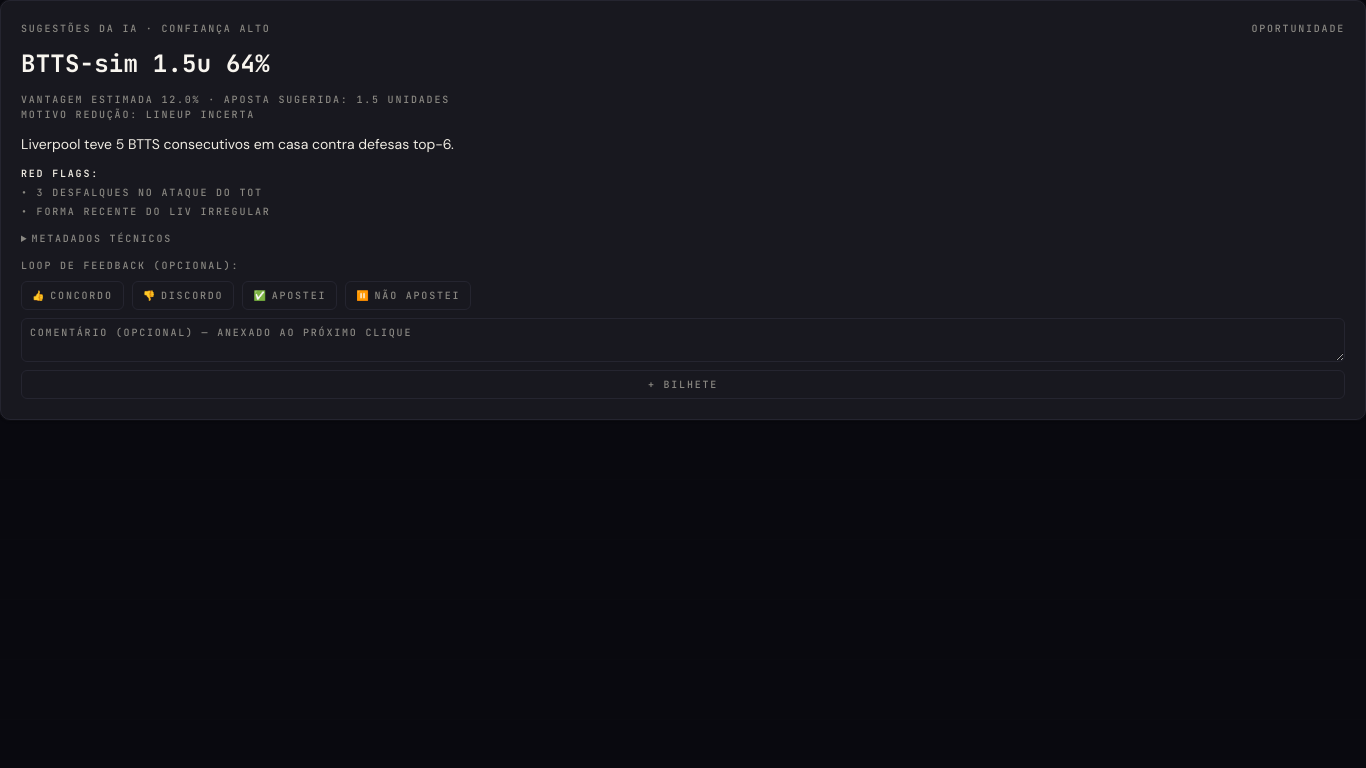
Test: <AiRecoPanel> "Apostei" modal flow (A2) › modal tem dropdown de casas + campos editáveis de odd e stake
Click the button "✅ Apostei" at (290,296), box left=242, top=281, right=337, bottom=310
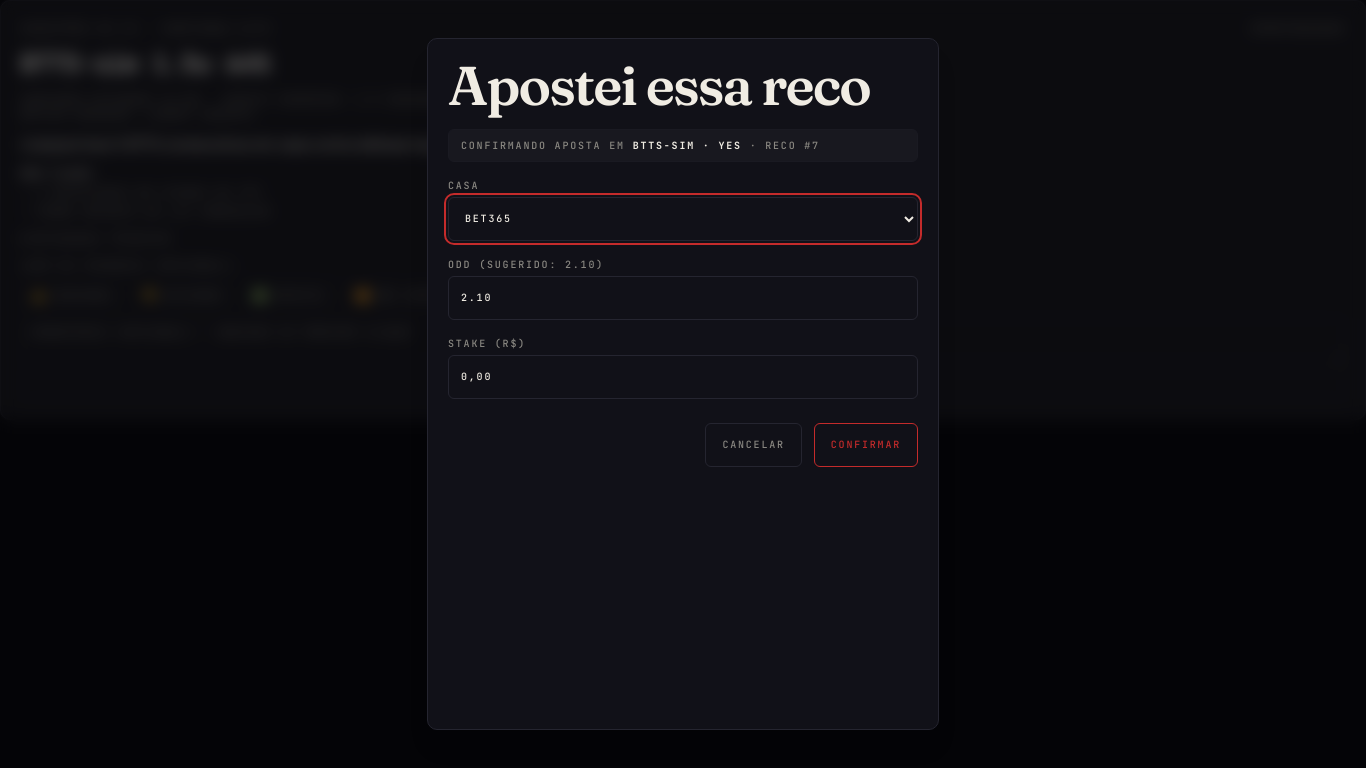
Check: the dropdown labelled "Casa" is shown, box left=448, top=197, right=918, bottom=241
Check: the field labelled "Odd (sugerido: 2.10)" is shown, box left=448, top=276, right=918, bottom=320
Check: the field labelled "Stake (R$)" is shown, box left=448, top=355, right=918, bottom=399
